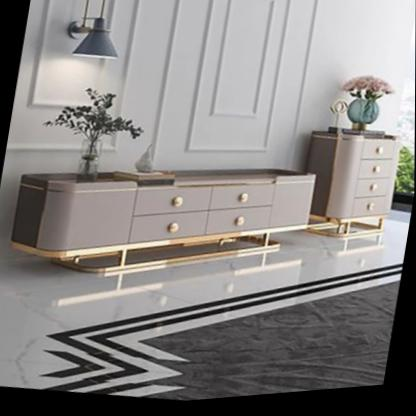Sideboard: (10, 172, 316, 277)
